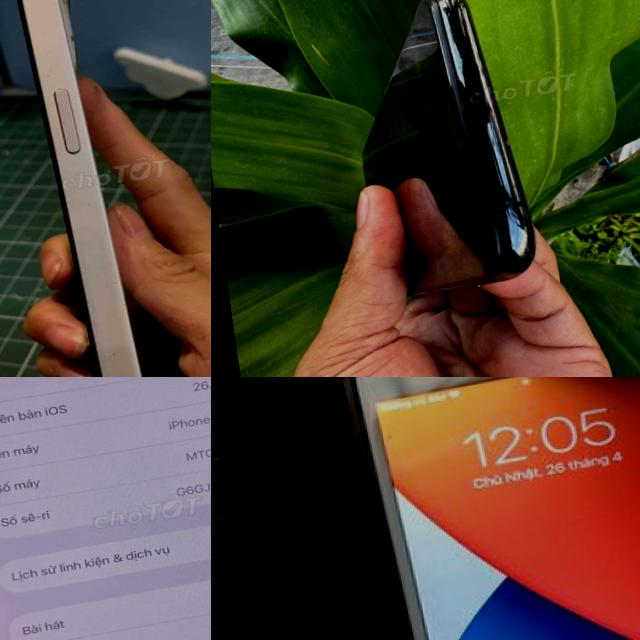gen_12_13: (3, 0, 168, 377)
gen_15: (0, 377, 211, 640)
gen_6: (335, 377, 640, 640)
gen_x_xs: (313, 0, 575, 310)
